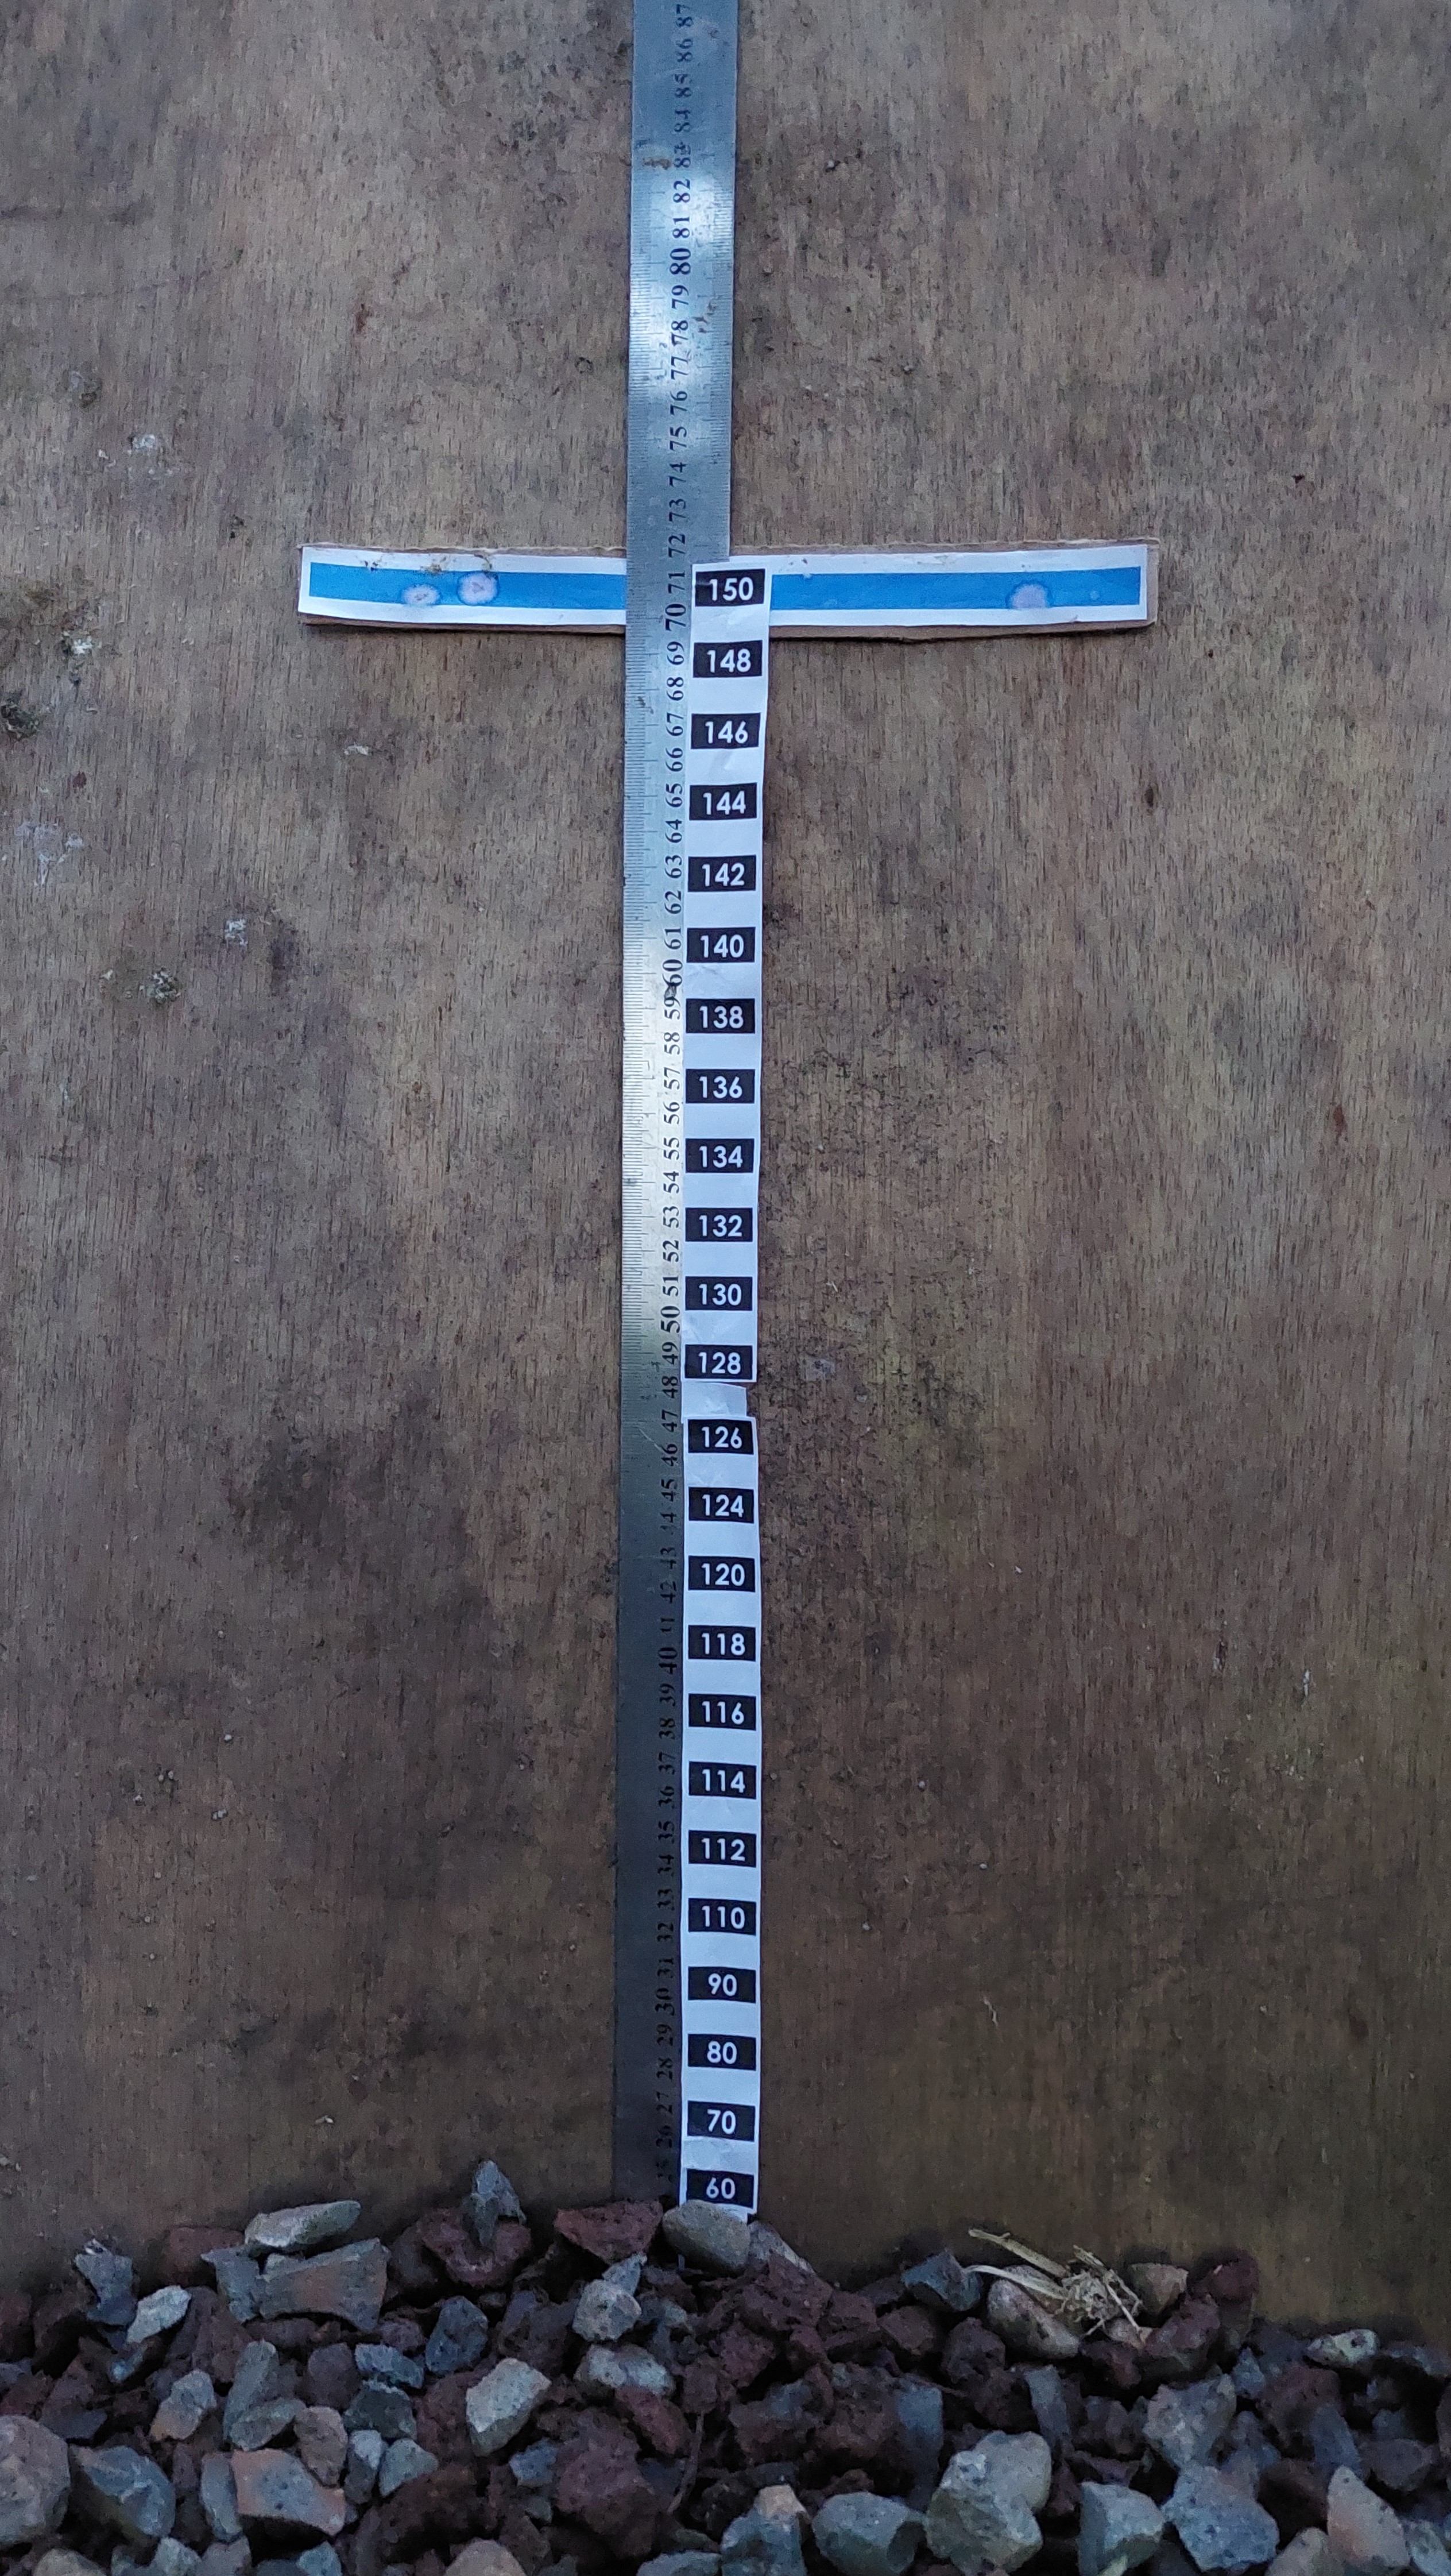kotak_2x1: (683, 1688, 761, 1734), (683, 1757, 761, 1803), (683, 1826, 761, 1872), (685, 1891, 759, 1939), (685, 2028, 761, 2074), (685, 2097, 757, 2144), (683, 851, 761, 895), (683, 1621, 761, 1665), (683, 1132, 757, 1178), (683, 924, 759, 968), (683, 994, 759, 1039), (685, 1552, 761, 1596), (685, 1960, 757, 2006), (687, 778, 761, 823), (683, 2166, 756, 2210), (688, 709, 763, 752), (683, 1065, 757, 1108), (683, 1341, 757, 1384), (683, 1483, 757, 1525), (692, 568, 768, 609), (692, 637, 764, 679), (683, 1272, 756, 1315), (683, 1417, 756, 1458), (683, 1203, 752, 1246)
mal_biru_150: (306, 554, 1143, 614)
